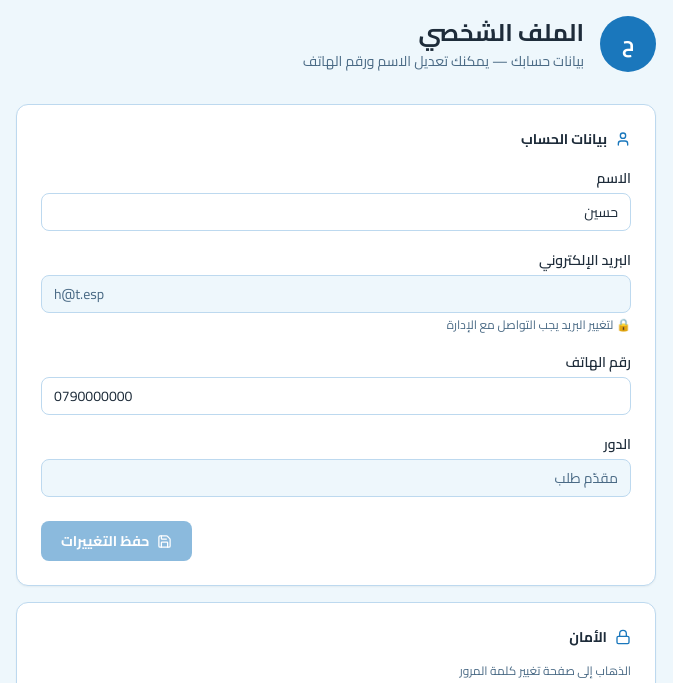
Test: Profile — JORD-10 › surfaces a validation error inline when the API rejects
In the field labelled "الاسم": coordinates (336, 212) [41,193,631,231], type "x"
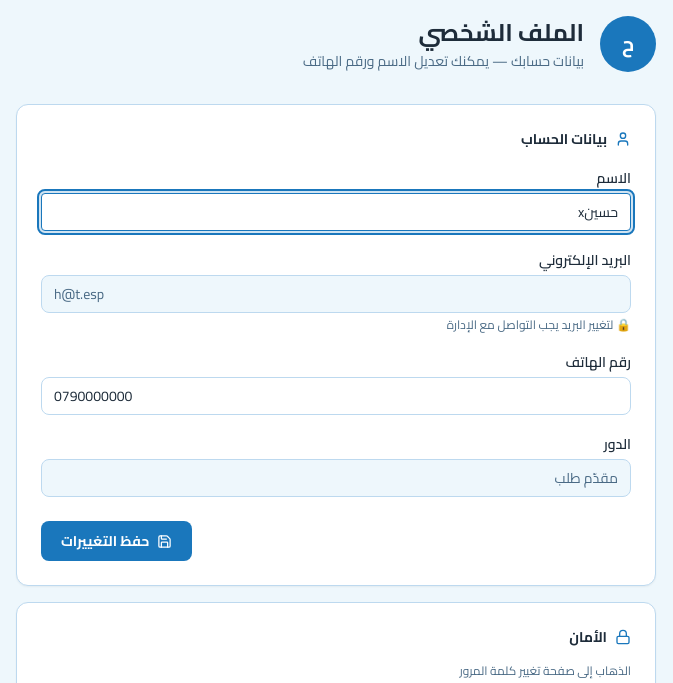
Click the button "حفظ التغييرات": coordinates (117, 541) [41,521,192,561]
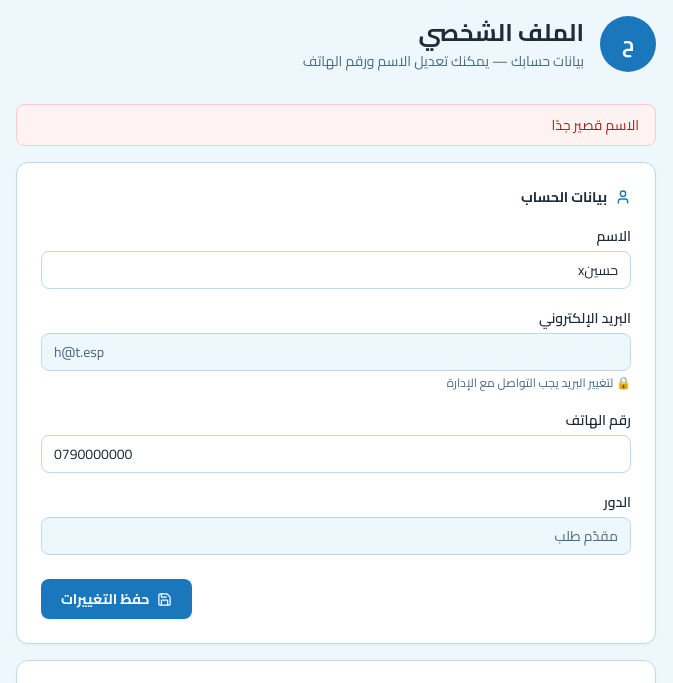
Check: the text "الاسم قصير جدًا" is shown, box [16,104,656,146]
